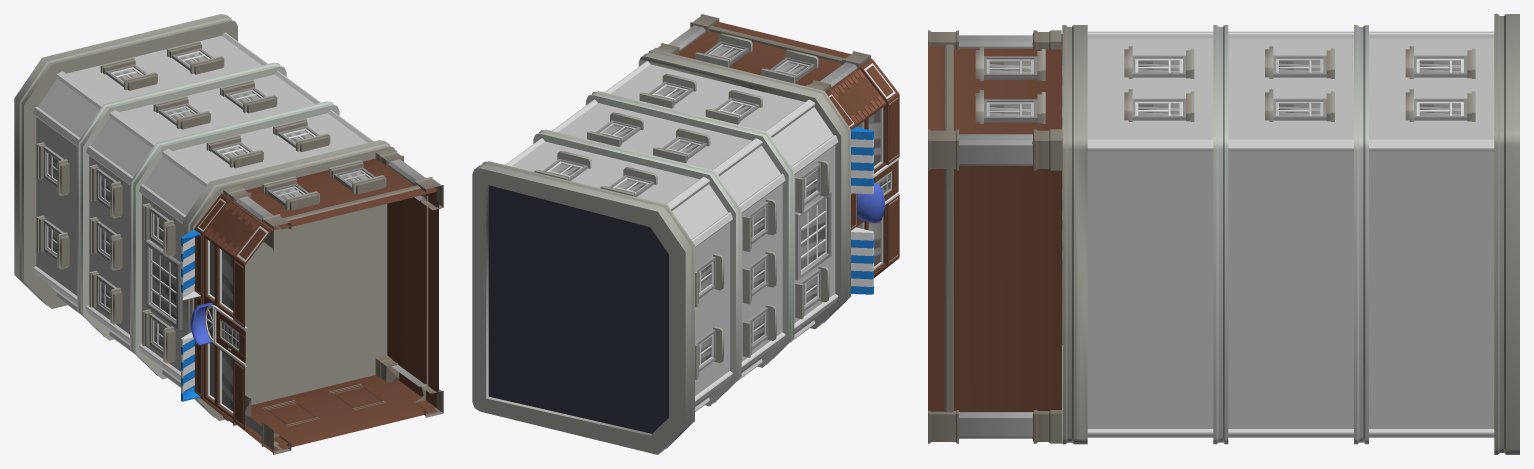
File: Building_3_3_E.fbx
3 views of the same model, side by side, from view 1: azimuth 30°, elevation 25°; view 2: azimuth 150°, elevation 25°; view 3: azimuth 270°, elevation 25° (orthographic). The views are drawn at different scales.
Visible parts, largest first — view 1: Building 3_3_E; view 2: Building 3_3_E; view 3: Building 3_3_E.
Boxes of the visible parts, x1,y1,x2,y2 form: Building 3_3_E: [14, 14, 443, 454]; Building 3_3_E: [472, 14, 899, 454]; Building 3_3_E: [928, 14, 1519, 454].
Bounding box in the file's own units: 808 × 837 × 1383.
